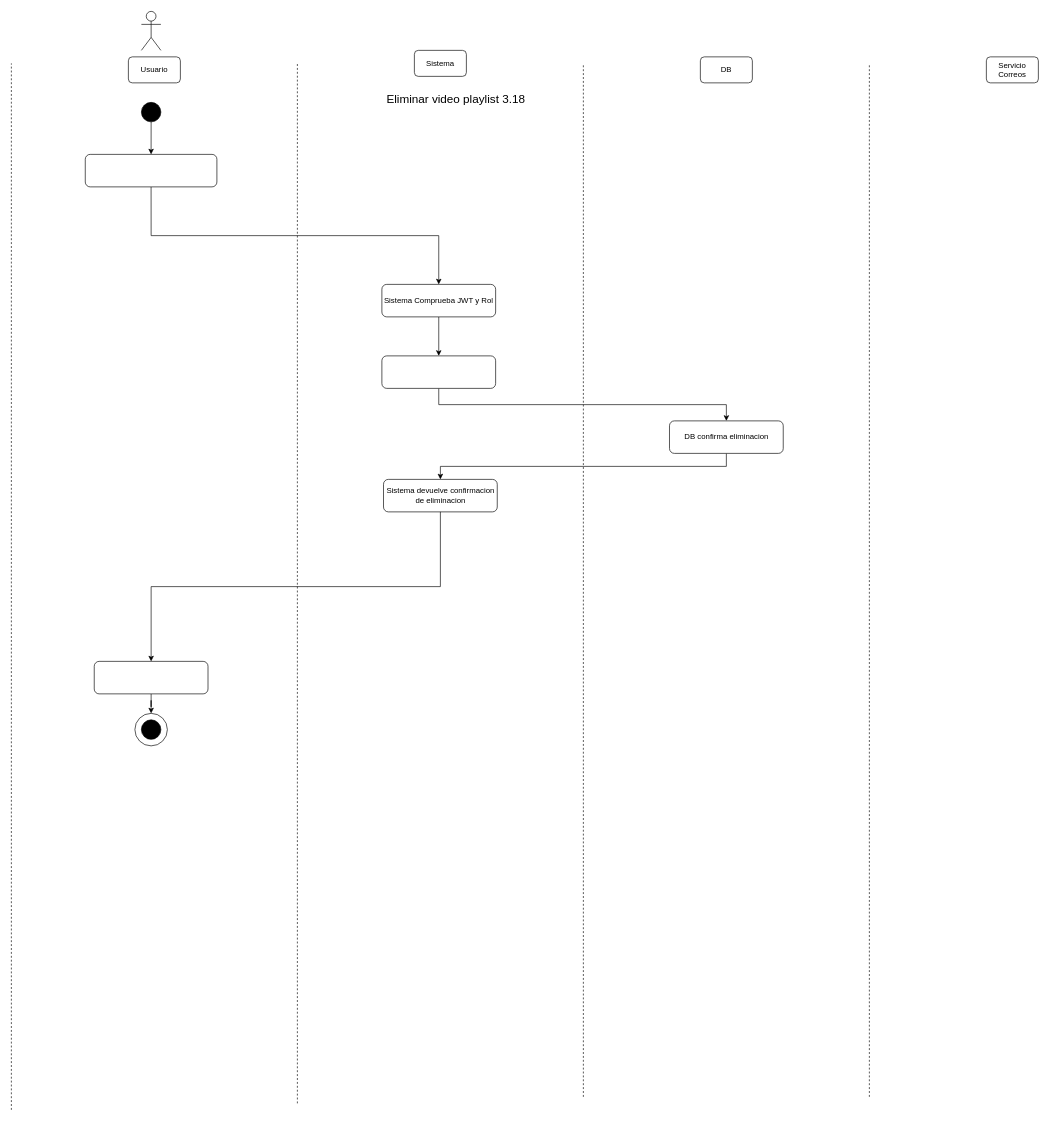
Image size: 1050x1122. Some labels were removed from this diagram. Each missing label, with the centre of its shape:
"Miuestra clase eliminada de playlist con exito" goes at (151,677).
"Sistema elimina clase en la playlist en DB" goes at (438,371).
"Usuario elige video a eliminar en playlist" goes at (151,170).
